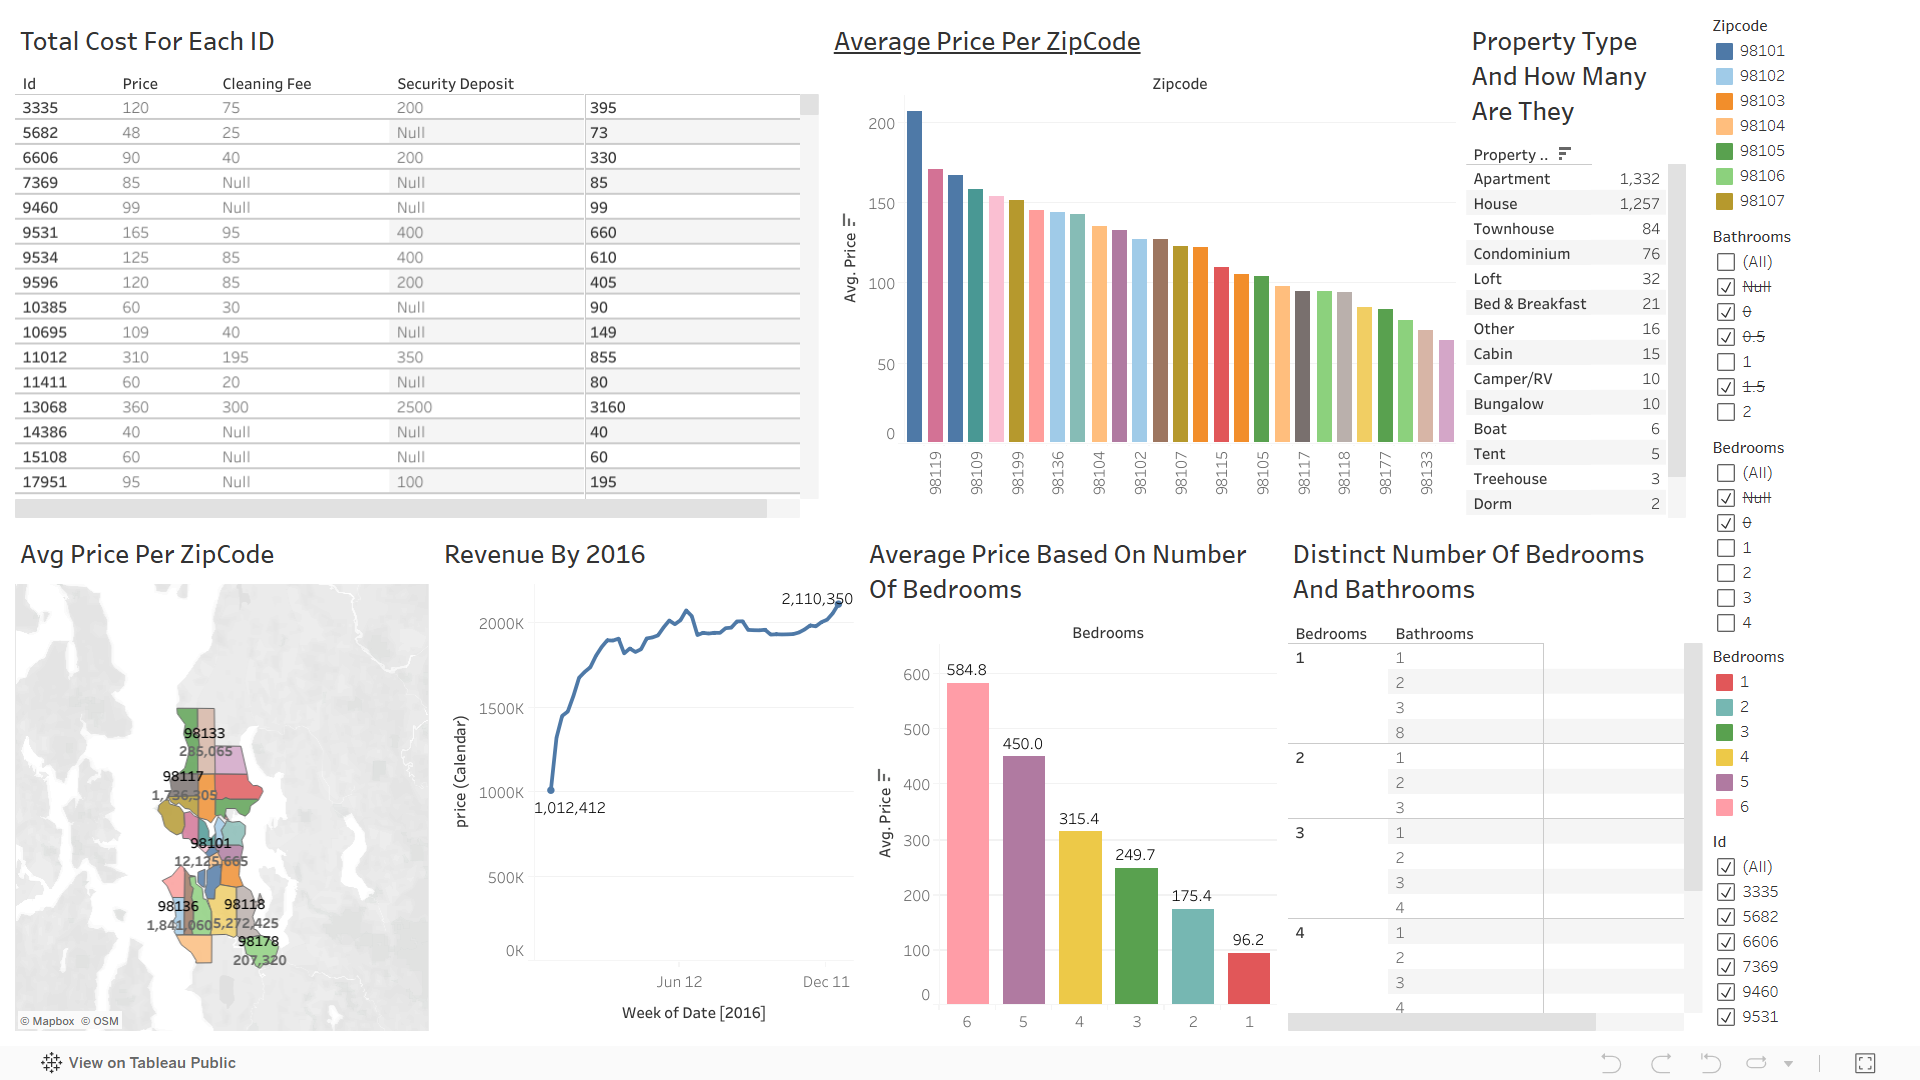

What the dashboard file says about the page in this screenshot:
{"tool":"tableau","page":{"name":"Dashboard 1","canvas":[1000,1000],"units":"permille","ordinal":0},"visuals":[{"type":"worksheet","title":"Sheet 7","mark":"Automatic","rows":["id","price","cleaning_fee","security_deposit"],"box":[4.8,10,427.9,490]},{"type":"worksheet","title":"Sheet 1","mark":"Automatic","rows":["price"],"cols":["zipcode"],"box":[432.7,10,334.9,490]},{"type":"worksheet","title":"Sheet 6","mark":"Automatic","rows":["property_type"],"box":[767.6,10,129.8,490]},{"type":"legend","title":"Sheet 1","param":"[federated.0t4msm10svnmho1dyp6q00ortzct].[none:zipcode:ok]","box":[897.4,10,97.8,196.3]},{"type":"filter","title":"Sheet 5","param":"[federated.0t4msm10svnmho1dyp6q00ortzct].[none:bathrooms:ok]","box":[897.4,206.3,97.8,196.3]},{"type":"filter","title":"Sheet 5","param":"[federated.0t4msm10svnmho1dyp6q00ortzct].[none:bedrooms:ok]","box":[897.4,402.6,97.8,196.3]},{"type":"worksheet","title":"Sheet 2","mark":"Multipolygon","box":[4.8,500,223.1,490]},{"type":"worksheet","title":"Sheet 3","mark":"Automatic","rows":["price (Calendar)"],"cols":["date"],"box":[228,500,223.1,490]},{"type":"worksheet","title":"Sheet 4","mark":"Automatic","rows":["price"],"cols":["bedrooms"],"box":[451.1,500,223.1,490]},{"type":"worksheet","title":"Sheet 5","mark":"Automatic","rows":["bedrooms","bathrooms"],"box":[674.2,500,223.2,490]},{"type":"legend","title":"Sheet 4","param":"[federated.0t4msm10svnmho1dyp6q00ortzct].[none:bedrooms:ok]","box":[897.4,598.9,97.8,194.8]},{"type":"filter","title":"Sheet 7","param":"[federated.0t4msm10svnmho1dyp6q00ortzct].[none:id:ok]","box":[897.4,793.7,97.8,196.3]}]}

Visuals, with their boxes on the dashboard's canvas, which has no fixed pixel size, in thousandths of its width and height (x1, y1, x2, y2). These are canvas units, not pixel positions in the 1920x1080 screenshot, which may show the page scaled, cropped or inside an application window:
"Sheet 7" worksheet: <region>5, 10, 433, 500</region>
"Sheet 1" worksheet: <region>433, 10, 768, 500</region>
"Sheet 6" worksheet: <region>768, 10, 897, 500</region>
"Sheet 1" legend: <region>897, 10, 995, 206</region>
"Sheet 5" filter: <region>897, 206, 995, 403</region>
"Sheet 5" filter: <region>897, 403, 995, 599</region>
"Sheet 2" worksheet (Multipolygon marks): <region>5, 500, 228, 990</region>
"Sheet 3" worksheet: <region>228, 500, 451, 990</region>
"Sheet 4" worksheet: <region>451, 500, 674, 990</region>
"Sheet 5" worksheet: <region>674, 500, 897, 990</region>
"Sheet 4" legend: <region>897, 599, 995, 794</region>
"Sheet 7" filter: <region>897, 794, 995, 990</region>
